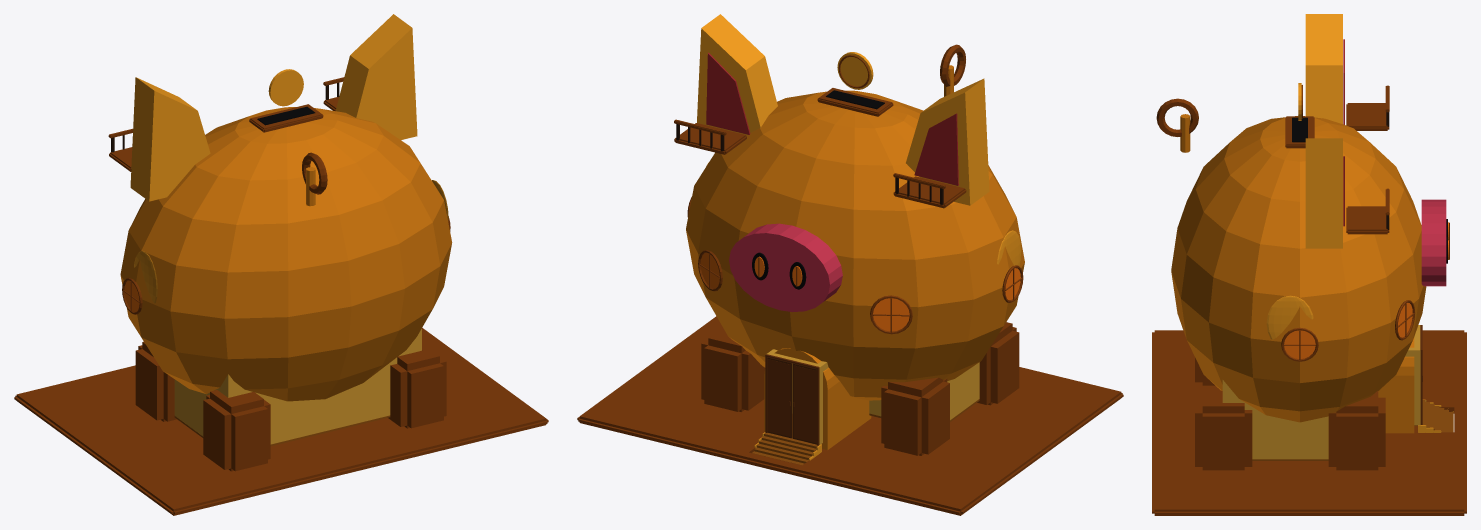
File: golden-piggy-visual.obj
3 views of the same model, side by side, from view 1: azimuth 30°, elevation 25°; view 2: azimuth 150°, elevation 25°; view 3: azimuth 270°, elevation 25° (orthographic). The views are drawn at different scales.
Visible parts, largest first — view 1: PigBody, Foundation_01, Ears, WalkRearWall, WalkSideRightWall, CoinSlot, HouseFX_SlotCoin, TailChimney, EarBalconies, HouseFX_FlankAccent_2_01, RoundWindows; view 2: PigBody, Foundation_01, Ears, Snout, EarBalconies, BellyEntrance_01, RoundWindows, HouseDoorLeaf_R_Panel, HouseDoorLeaf_L_Panel, CoinSlot, WalkSideRightWall, HouseFX_SlotCoin (+1 smaller); view 3: PigBody, Foundation_01, Ears, WalkSideLeftWall, EarBalconies, Snout, BellyEntrance_01, RoundWindows, TailChimney, HouseFX_FlankAccent_1_01, CoinSlot, WalkPassageLeft.
Boxes of the visible parts, box(x1,y1,x2,y2) form: PigBody: box(120, 107, 452, 471); Foundation_01: box(14, 327, 548, 515); Ears: box(130, 14, 417, 201); WalkRearWall: box(228, 329, 421, 444); WalkSideRightWall: box(174, 374, 228, 435); CoinSlot: box(249, 104, 323, 132); HouseFX_SlotCoin: box(268, 69, 303, 106); TailChimney: box(302, 152, 327, 206); EarBalconies: box(108, 77, 344, 171); HouseFX_FlankAccent_2_01: box(134, 251, 157, 303); RoundWindows: box(122, 216, 450, 314); PigBody: box(686, 90, 1024, 455); Foundation_01: box(577, 316, 1123, 515); Ears: box(697, 14, 989, 205); Snout: box(729, 223, 842, 312); EarBalconies: box(674, 119, 966, 208); BellyEntrance_01: box(764, 348, 871, 449); RoundWindows: box(687, 197, 1023, 334); HouseDoorLeaf_R_Panel: box(793, 365, 816, 443); HouseDoorLeaf_L_Panel: box(767, 359, 790, 436); CoinSlot: box(817, 88, 893, 116); WalkSideRightWall: box(947, 362, 979, 419); HouseFX_SlotCoin: box(837, 52, 873, 89); PigBody: box(1171, 116, 1426, 470); Foundation_01: box(1152, 330, 1466, 515); Ears: box(1305, 14, 1344, 248); WalkSideLeftWall: box(1223, 381, 1328, 459); EarBalconies: box(1346, 85, 1389, 234); Snout: box(1421, 199, 1449, 286); BellyEntrance_01: box(1378, 337, 1414, 433); RoundWindows: box(1281, 300, 1414, 361); TailChimney: box(1156, 98, 1198, 152); HouseFX_FlankAccent_1_01: box(1266, 295, 1313, 339); CoinSlot: box(1285, 116, 1314, 148); WalkPassageLeft: box(1405, 351, 1420, 425).
Size of the model in its own units: 62.1 by 55.91 by 45.54.
